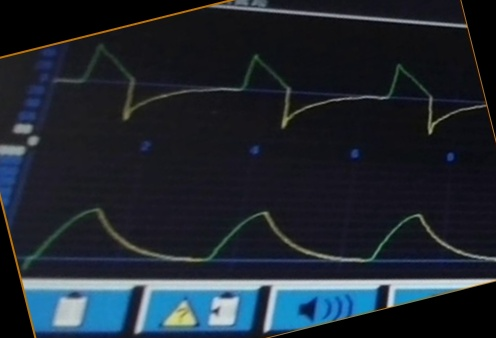Normal Flow: (54, 41, 485, 135)
Normal Volume: (21, 190, 496, 273)
